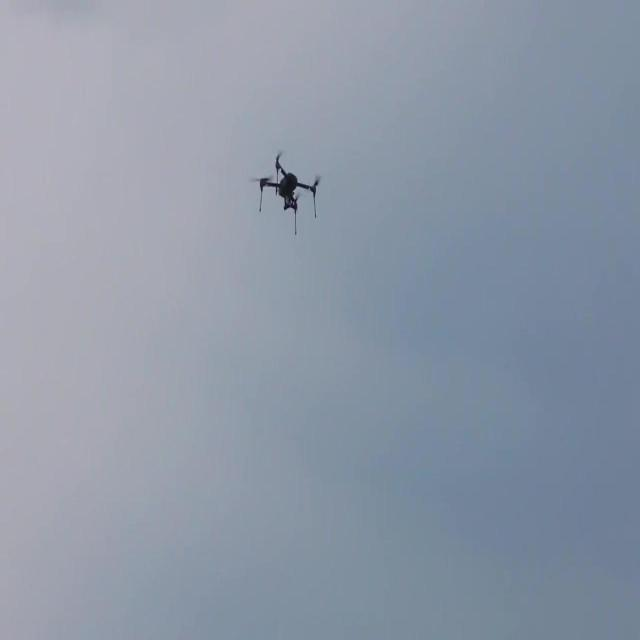drone: (253, 150, 323, 237)
